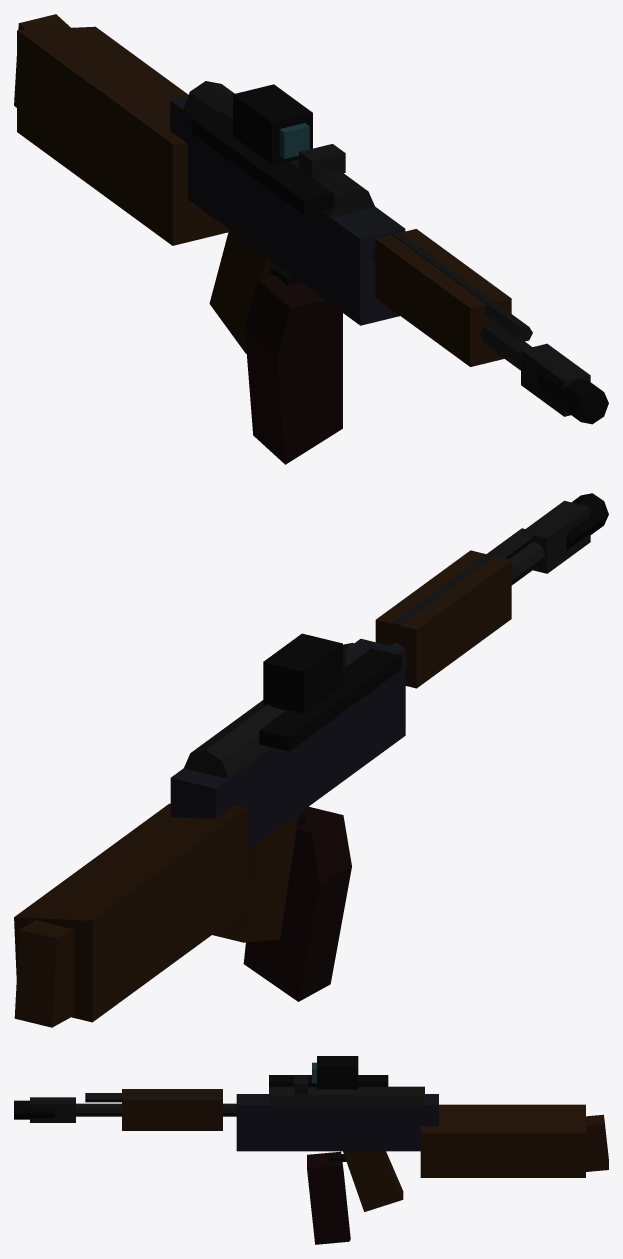
The model's file is weapon_akmn_rifle.glb.
3 renders of one model, top to bottom at view 1: azimuth 30°, elevation 25°; view 2: azimuth 150°, elevation 25°; view 3: azimuth 270°, elevation 25°, orthographic. The views are drawn at different scales.
Parts seen in each view (by area): view 1: root; view 2: root; view 3: root.
Boxes of the visible parts, bbox=[...] form: root: bbox=[14, 14, 608, 464]; root: bbox=[14, 493, 608, 1027]; root: bbox=[14, 1056, 608, 1244].
Bounding box in the file's own units: 0.276 × 1.01 × 2.98.
